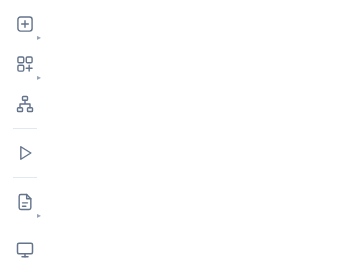
it: FlowRail extras › leaves out the templates that need a tool server on a host without one
Click the button with test id "builder-flow-templates".
click(25, 64)  # box 6,45 -> 44,83
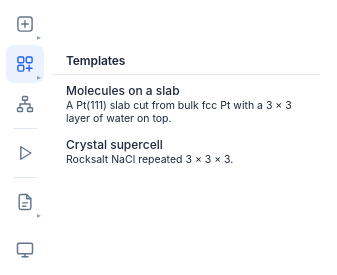
Expected: the menu item with test id "builder-flow-template-slab-adsorbates" is shown, 52,77 -> 320,131
